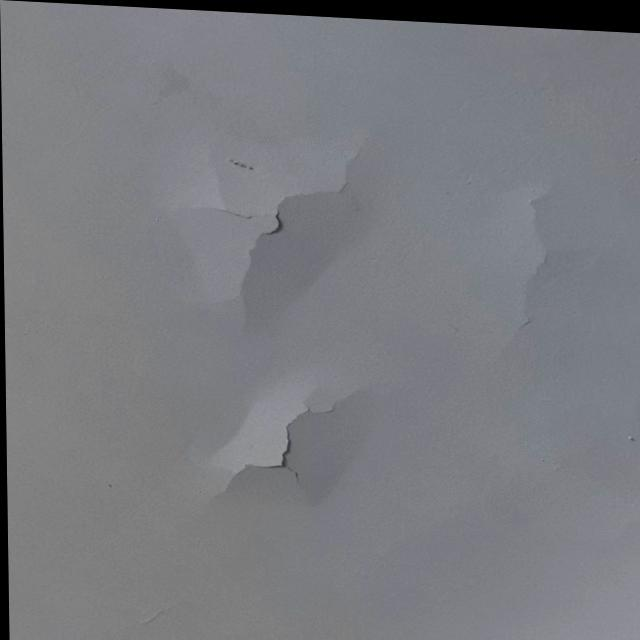crack: (154, 136, 381, 335), (204, 395, 373, 505), (499, 175, 564, 350)
